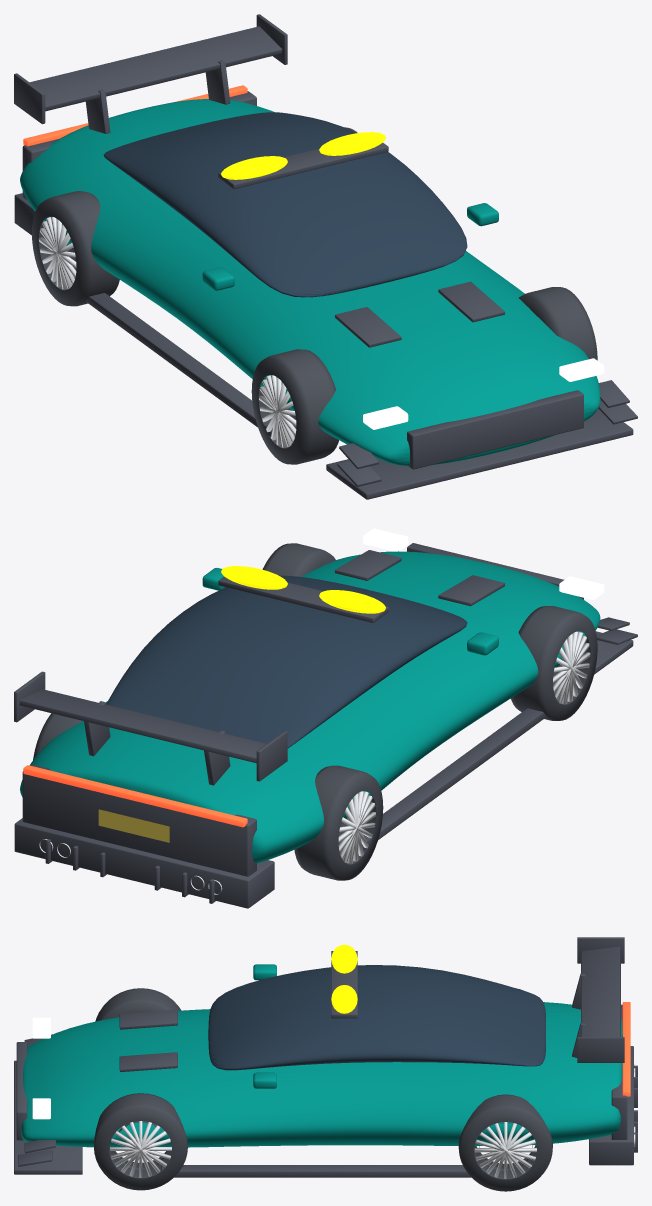
The model's file is gt_safety_car.glb.
The picture shows the model from 3 angles, top to bottom: view 1: azimuth 30°, elevation 25°; view 2: azimuth 150°, elevation 25°; view 3: azimuth 270°, elevation 25°; orthographic projection. The views are drawn at different scales.
Visible parts, largest first — view 1: SC_Chassis, SC_Cabin, SC_GT_Wing, SC_Grille, SC_Tire_0, SC_Splitter, SC_Tire_2, SC_Skirt_-1, SC_Tire_1, scLightbar, SC_Light_Bridge, SC_Hood_Vent_1 (+8 smaller); view 2: SC_Chassis, SC_Cabin, SC_Rear_Fascia, SC_Diffuser, SC_Tire_0, SC_Tire_2, SC_GT_Wing, SC_Skirt_-1, SC_Tail_Blade, scLightbar, SC_Light_Bridge, SC_Tire_1 (+13 smaller); view 3: SC_Chassis, SC_Cabin, SC_Tire_1, SC_Tire_3, SC_Skirt_1, SC_GT_Wing, SC_Splitter, SC_Diffuser, SC_Tire_0, SC_Endplate_1, scLightbar, SC_Hood_Vent_-1 (+10 smaller).
Boxes of the visible parts, x1,y1,x2,y2 form: SC_Chassis: (20, 99, 600, 465); SC_Cabin: (103, 112, 467, 297); SC_GT_Wing: (30, 26, 282, 111); SC_Grille: (407, 390, 583, 469); SC_Tire_0: (251, 349, 338, 464); SC_Splitter: (326, 408, 633, 499); SC_Tire_2: (32, 191, 119, 306); SC_Skirt_-1: (86, 293, 272, 436); SC_Tire_1: (519, 287, 597, 360); scLightbar: (221, 132, 385, 179); SC_Light_Bridge: (218, 143, 388, 189); SC_Hood_Vent_1: (438, 281, 505, 322); SC_Chassis: (20, 551, 600, 863); SC_Cabin: (106, 575, 467, 748); SC_Rear_Fascia: (22, 764, 256, 876); SC_Diffuser: (14, 818, 274, 908); SC_Tire_0: (510, 606, 597, 720); SC_Tire_2: (294, 765, 383, 880); SC_GT_Wing: (19, 689, 266, 763); SC_Skirt_-1: (362, 708, 546, 850); SC_Tail_Blade: (23, 765, 247, 827); scLightbar: (221, 566, 385, 613); SC_Light_Bridge: (218, 576, 388, 622); SC_Tire_1: (262, 543, 335, 576); SC_Chassis: (21, 1002, 622, 1147); SC_Cabin: (208, 965, 545, 1070); SC_Tire_1: (94, 1093, 187, 1190); SC_Tire_3: (458, 1094, 552, 1191); SC_Skirt_1: (161, 1165, 485, 1177); SC_GT_Wing: (581, 946, 620, 1036); SC_Splitter: (14, 1060, 82, 1174); SC_Diffuser: (589, 1046, 633, 1165); SC_Tire_0: (95, 988, 181, 1021); SC_Endplate_1: (577, 1037, 624, 1062); scLightbar: (331, 944, 357, 1013); SC_Hood_Vent_-1: (119, 1009, 177, 1029).
Bounding box in the file's own units: 2.2 × 1.32 × 4.72.
